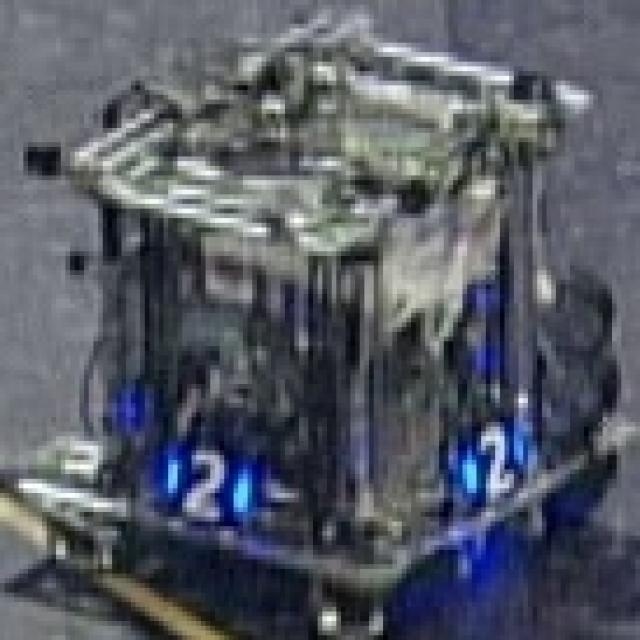B2: (164, 441, 252, 521), (458, 417, 528, 498)
